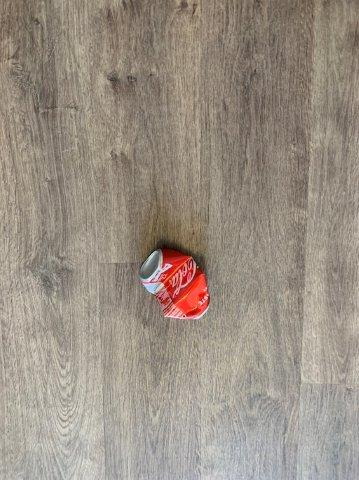kaleng: (141, 248, 210, 319)
